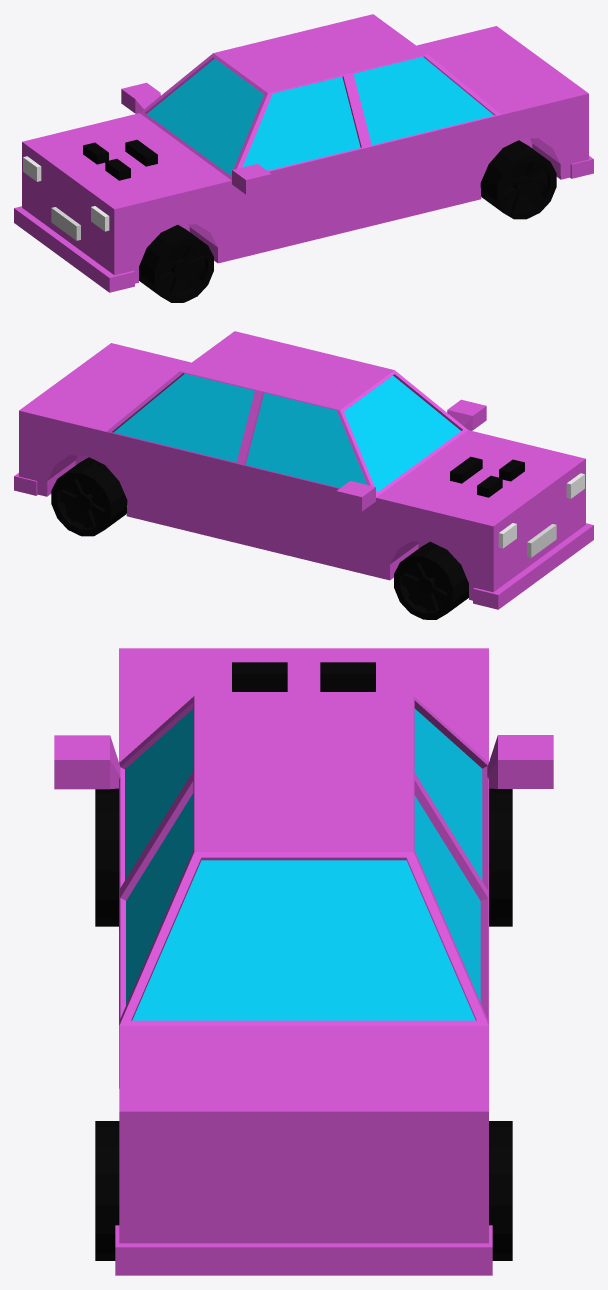
File: car_sel.glb
3 views of the same model, one above another, from view 1: azimuth 30°, elevation 25°; view 2: azimuth 150°, elevation 25°; view 3: azimuth 270°, elevation 25° (orthographic). The views are drawn at different scales.
Visible parts, largest first — view 1: Cube, Cylinder.003, Cylinder.001, Cube.002, Cube.004, Cube.001, Cube.005, Cube.003; view 2: Cube, Cylinder.003, Cylinder.001, Cube.002, Cube.004, Cube.001, Cube.003, Cube.005; view 3: Cube, Cube.002, Cylinder.001, Cylinder.003, Cube.004.
Boxes of the visible parts, x1,y1,x2,y2 form: Cube: [14, 14, 593, 292]; Cylinder.003: [480, 140, 556, 219]; Cylinder.001: [139, 224, 213, 302]; Cube.002: [121, 82, 271, 194]; Cube.004: [83, 142, 130, 180]; Cube.001: [23, 156, 109, 231]; Cube.005: [125, 139, 157, 166]; Cube.003: [51, 207, 80, 240]; Cube: [14, 331, 593, 609]; Cylinder.003: [51, 457, 127, 536]; Cylinder.001: [394, 541, 468, 619]; Cube.002: [336, 399, 486, 511]; Cube.004: [477, 459, 524, 497]; Cube.001: [498, 473, 584, 548]; Cube.003: [527, 524, 556, 557]; Cube.005: [450, 456, 482, 483]; Cube: [115, 648, 492, 1275]; Cube.002: [54, 735, 553, 789]; Cylinder.001: [95, 788, 512, 926]; Cylinder.003: [95, 1121, 512, 1260]; Cube.004: [232, 662, 375, 691].
Size of the model in its own units: 15.47 by 5.03 by 6.89.
